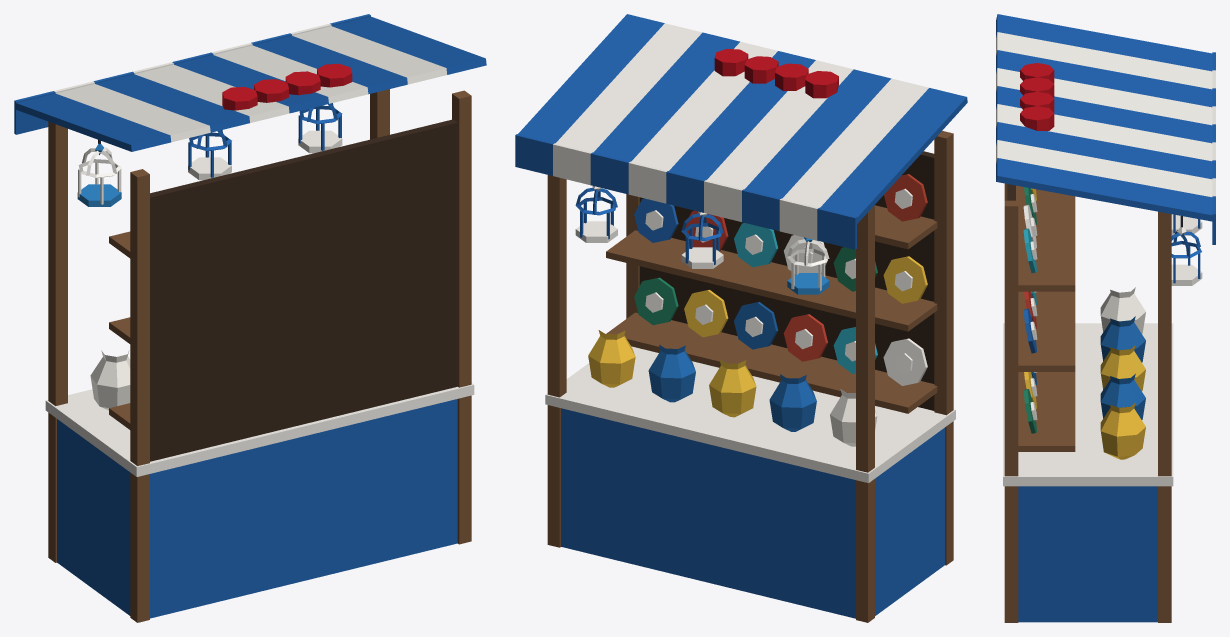
File: stall_sbs.glb
3 views of the same model, side by side, from view 1: azimuth 30°, elevation 25°; view 2: azimuth 150°, elevation 25°; view 3: azimuth 270°, elevation 25° (orthographic). The views are drawn at different scales.
Parts seen in each view (by area): view 1: stall_sbs; view 2: stall_sbs; view 3: stall_sbs.
Boxes of the visible parts, x1=… form: stall_sbs: x1=14, y1=14, x2=486, y2=622; stall_sbs: x1=515, y1=14, x2=967, y2=622; stall_sbs: x1=996, y1=14, x2=1215, y2=622.
Bounding box in the file's own units: 2.25 × 2.95 × 1.29.
